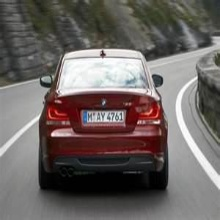no damage: (38, 49, 169, 193)
